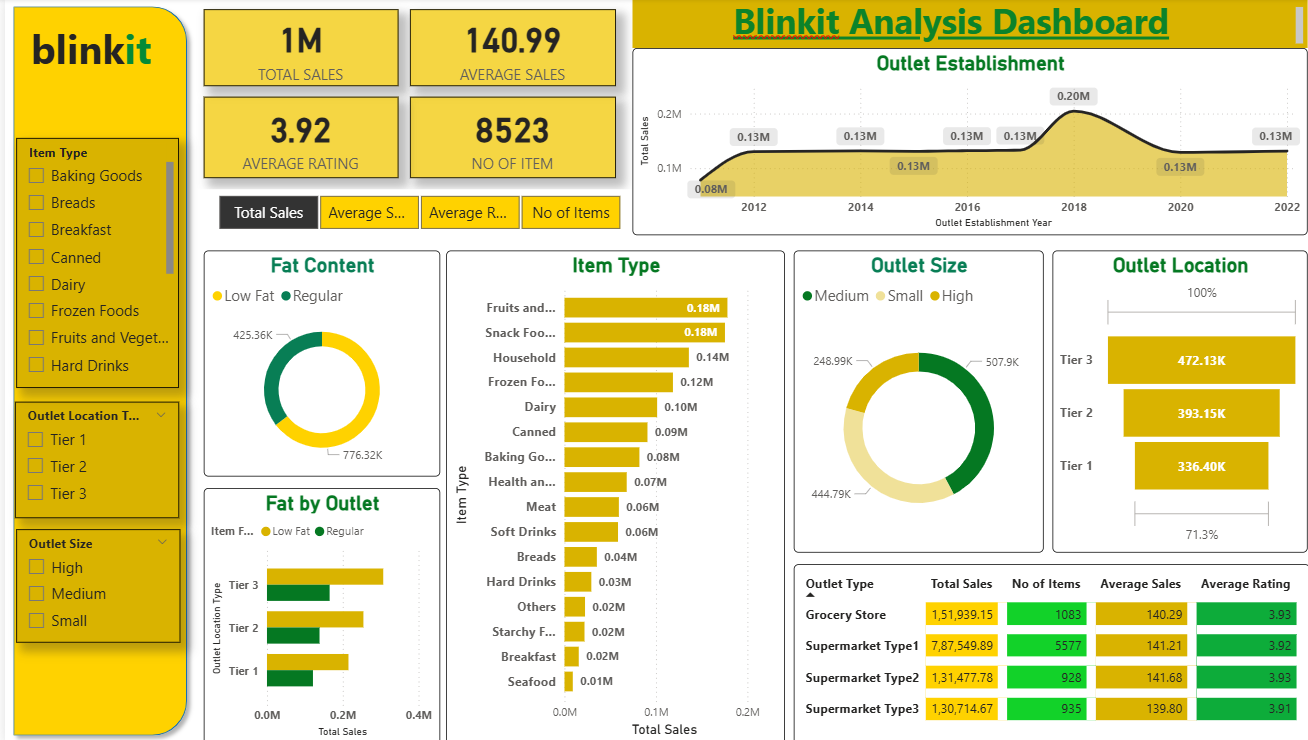

This screenshot's page, from the dashboard's own definition file:
{"tool":"powerbi","page":{"name":"Page 1","canvas":[1400,800],"ordinal":0},"visuals":[{"type":"shape","box":[0,0,204.1,800],"z":0},{"type":"textbox","box":[22.5,19.5,139.6,75],"z":1000},{"type":"card","fields":{"Values":["BlinkIT Grocery Data.Total Sales"]},"box":[213.1,12,208.6,82.5],"z":2000},{"type":"card","fields":{"Values":["BlinkIT Grocery Data.Average Sales"]},"box":[433.7,12,220.6,82.5],"z":3000},{"type":"card","fields":{"Values":["BlinkIT Grocery Data.No of Items"]},"box":[433.7,106.6,220.6,87.1],"z":4000},{"type":"card","fields":{"Values":["BlinkIT Grocery Data.Average Rating"]},"box":[213.1,106.6,208.6,87.1],"z":5000},{"type":"donutChart","title":"Fat Content","fields":{"Y":["BlinkIT Grocery Data.Total Sales"],"Category":["BlinkIT Grocery Data.Item Fat Content"]},"box":[213.1,270.8,253.4,242.6],"z":6000},{"type":"slicer","fields":{"Values":["Metrix.Metrix"]},"box":[204.1,205.6,480.3,49.5],"z":7000},{"type":"barChart","title":"Item Type","fields":{"Y":["BlinkIT Grocery Data.Total Sales"],"Category":["BlinkIT Grocery Data.Item Type"]},"box":[473.2,270.8,363.3,529.5],"z":8000},{"type":"clusteredBarChart","title":"Fat by Outlet","fields":{"Y":["BlinkIT Grocery Data.Total Sales"],"Category":["BlinkIT Grocery Data.Outlet Location Type"],"Series":["BlinkIT Grocery Data.Item Fat Content"]},"box":[213.1,525.5,253.4,274.8],"z":9000},{"type":"lineChart","title":"Outlet Establishment","fields":{"Category":["BlinkIT Grocery Data.Outlet Establishment Year"],"Y":["BlinkIT Grocery Data.Total Sales"]},"box":[672.4,12,714.4,243.1],"z":10000},{"type":"donutChart","title":"Outlet Size","fields":{"Y":["BlinkIT Grocery Data.Total Sales"],"Category":["BlinkIT Grocery Data.Outlet Size"]},"box":[845.8,270.8,268.1,324.4],"z":11000},{"type":"funnel","title":"Outlet Location","fields":{"Y":["BlinkIT Grocery Data.Total Sales"],"Category":["BlinkIT Grocery Data.Outlet Location Type"]},"box":[1123.3,270.8,273.5,324.4],"z":12000},{"type":"pivotTable","fields":{"Rows":["BlinkIT Grocery Data.Outlet Type"],"Values":["BlinkIT Grocery Data.Total Sales","BlinkIT Grocery Data.No of Items","BlinkIT Grocery Data.Average Sales","BlinkIT Grocery Data.Average Rating"]},"box":[845.8,604.6,553.6,195.7],"z":13000},{"type":"slicer","fields":{"Values":["BlinkIT Grocery Data.Outlet Location Type"]},"box":[10.7,433,175.6,124.7],"z":14000},{"type":"slicer","fields":{"Values":["BlinkIT Grocery Data.Outlet Size"]},"box":[12.1,569.7,175.6,122],"z":15000},{"type":"slicer","fields":{"Values":["BlinkIT Grocery Data.Item Type"]},"box":[12.1,150.1,174.3,268.1],"z":16000}]}

Visuals, with their boxes in screenshot pixels (x1, y1, x2, y2), scaled from the page's 1400x800 canvas onto the 1308x740 screenshot:
shape: left=0, top=0, right=191, bottom=739
textbox: left=21, top=18, right=151, bottom=87
card - BlinkIT Grocery Data.Total Sales: left=199, top=11, right=394, bottom=87
card - BlinkIT Grocery Data.Average Sales: left=405, top=11, right=611, bottom=87
card - BlinkIT Grocery Data.No of Items: left=405, top=99, right=611, bottom=179
card - BlinkIT Grocery Data.Average Rating: left=199, top=99, right=394, bottom=179
"Fat Content" donutChart: left=199, top=250, right=436, bottom=475
slicer - Metrix.Metrix: left=191, top=190, right=639, bottom=236
"Item Type" barChart: left=442, top=250, right=782, bottom=739
"Fat by Outlet" clusteredBarChart: left=199, top=486, right=436, bottom=739
"Outlet Establishment" lineChart: left=628, top=11, right=1296, bottom=236
"Outlet Size" donutChart: left=790, top=250, right=1041, bottom=551
"Outlet Location" funnel: left=1049, top=250, right=1305, bottom=551
pivotTable - BlinkIT Grocery Data.Outlet Type x BlinkIT Grocery Data.Total Sales: left=790, top=559, right=1307, bottom=739
slicer - BlinkIT Grocery Data.Outlet Location Type: left=10, top=401, right=174, bottom=516
slicer - BlinkIT Grocery Data.Outlet Size: left=11, top=527, right=175, bottom=640
slicer - BlinkIT Grocery Data.Item Type: left=11, top=139, right=174, bottom=387
